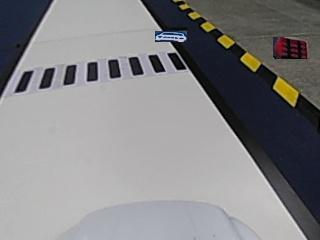crosswalk: (6, 50, 184, 95)
